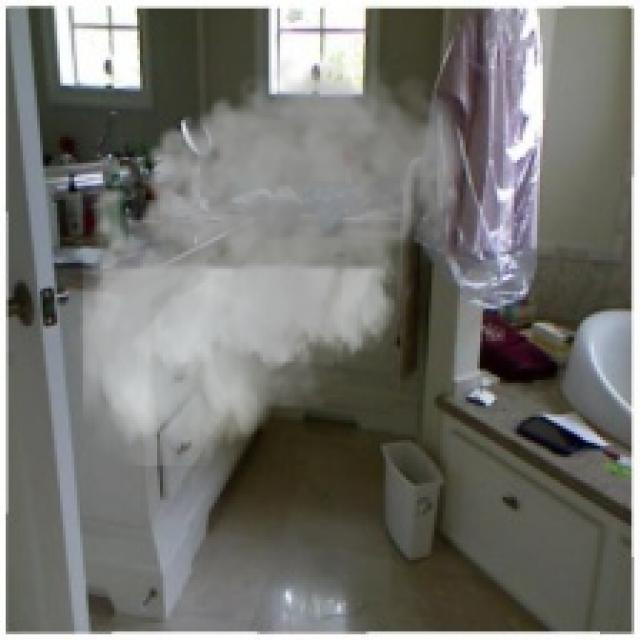smoke: (66, 46, 471, 466)
